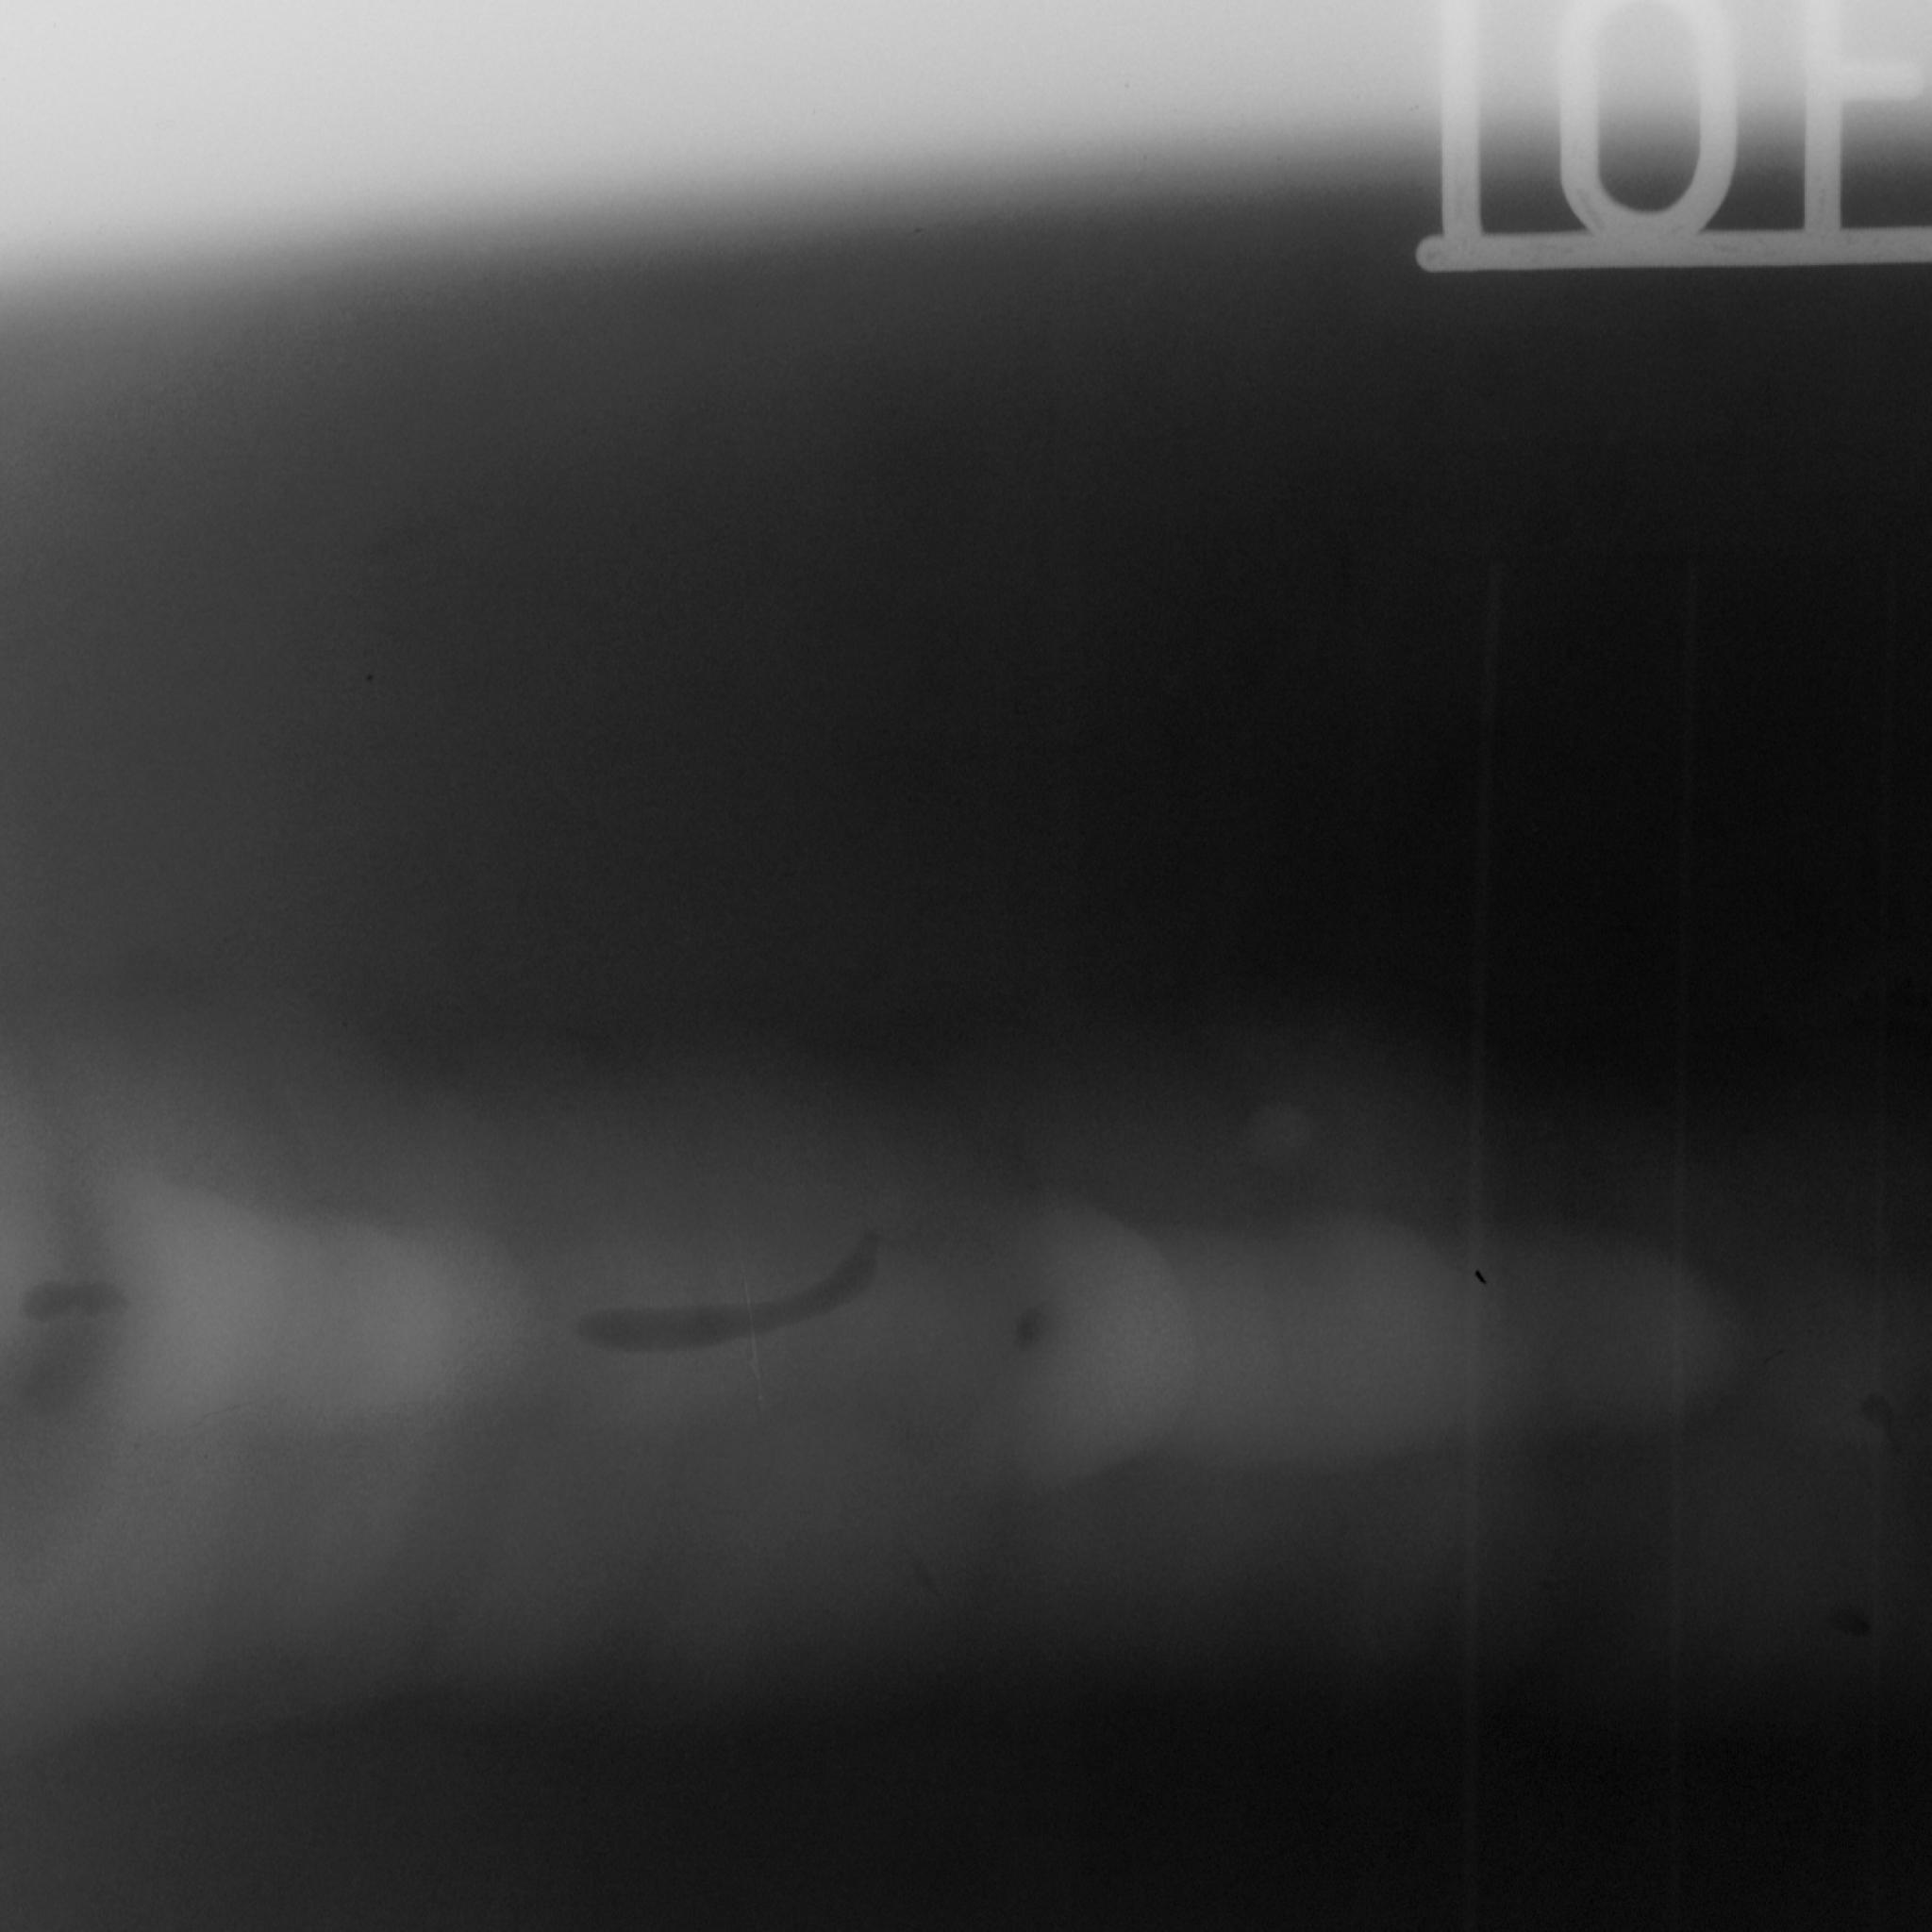Solda Ruim: (0, 791, 1932, 1860)
